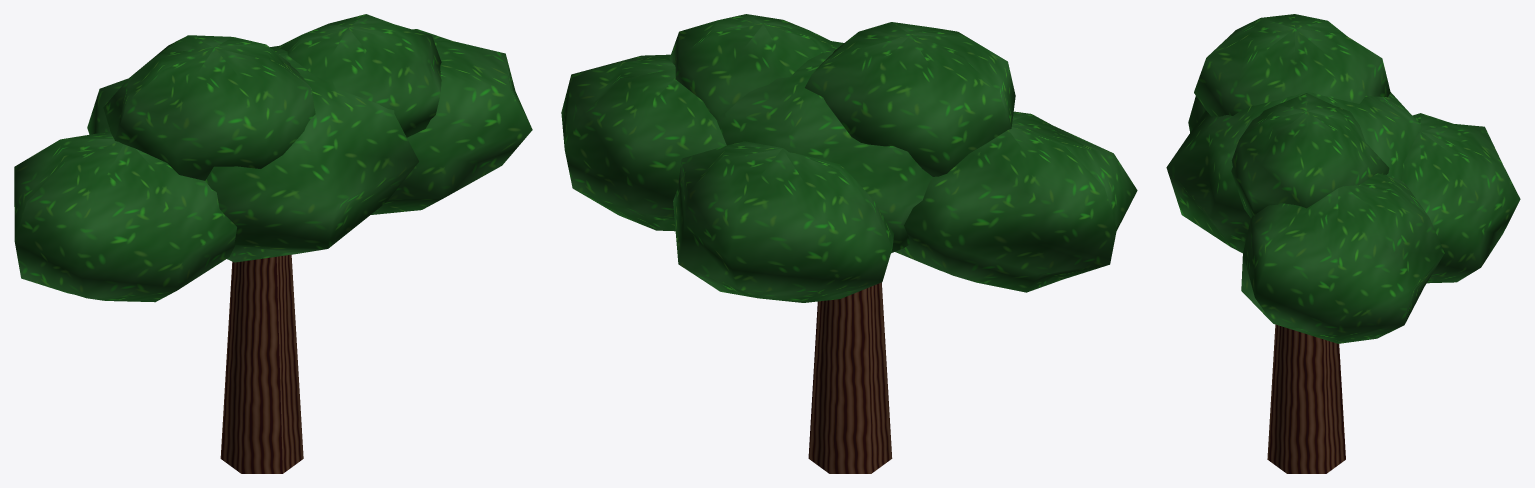
Rendered from tree-live-oak.lod2.gltf.
3 renders of one model, left to right at view 1: azimuth 30°, elevation 25°; view 2: azimuth 150°, elevation 25°; view 3: azimuth 270°, elevation 25°, orthographic. The views are drawn at different scales.
Visible parts, largest first — view 1: tree-live-oak; view 2: tree-live-oak; view 3: tree-live-oak.
Boxes of the visible parts, x1=… form: tree-live-oak: x1=14, y1=14, x2=532, y2=473; tree-live-oak: x1=561, y1=14, x2=1137, y2=473; tree-live-oak: x1=1166, y1=14, x2=1520, y2=473.
Bounding box in the file's own units: 7.32 × 5.7 × 4.5.
Materials: 2 (2 with a texture image).
